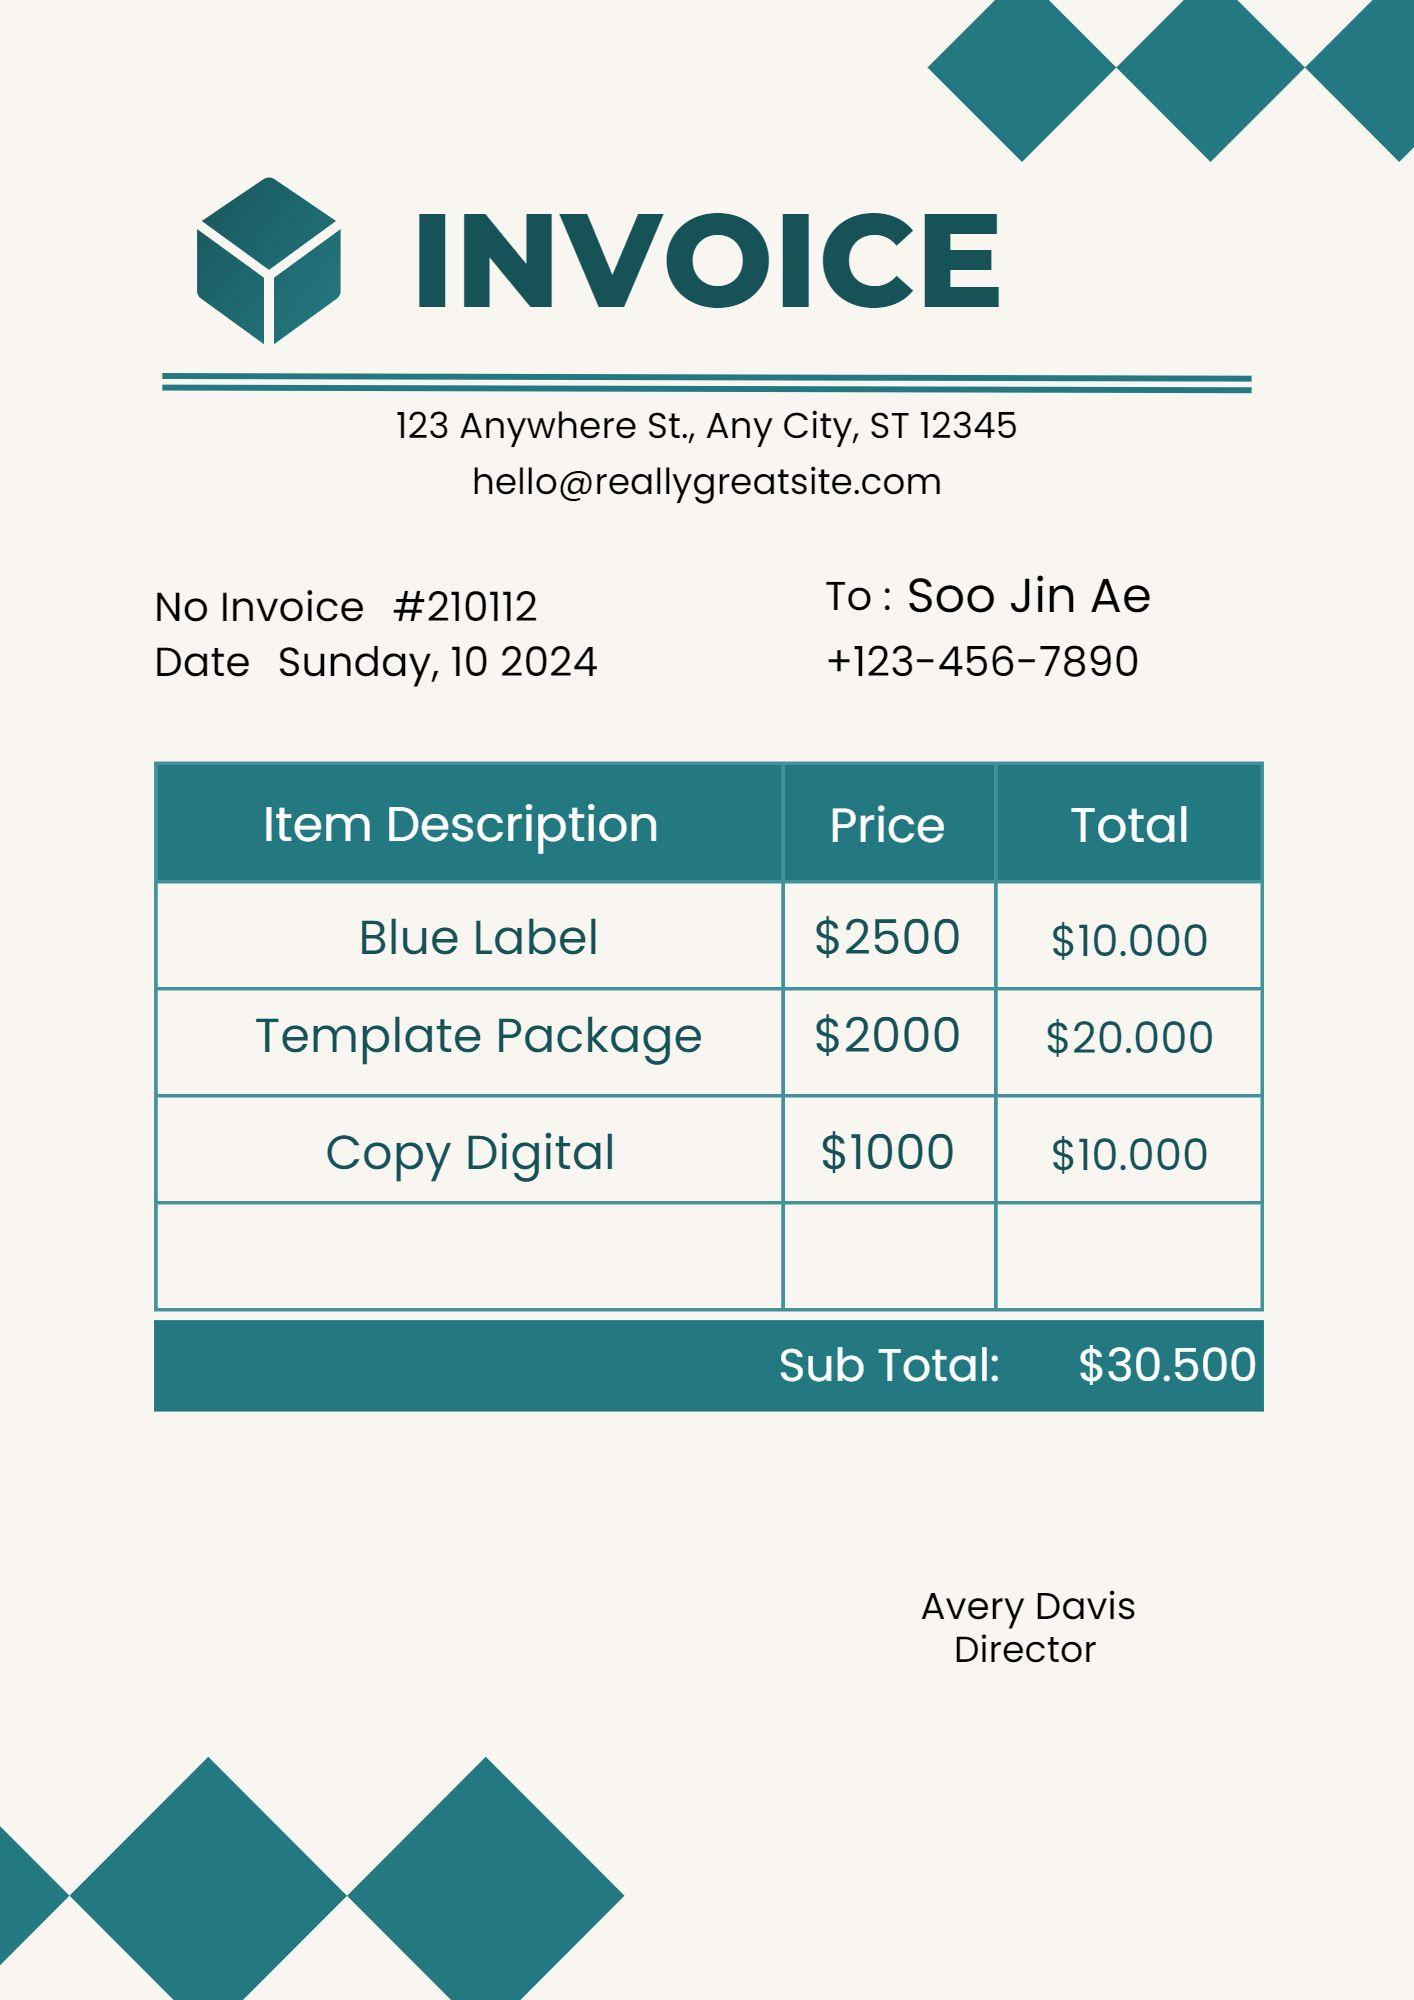ROI: (142, 756, 1279, 1314)
